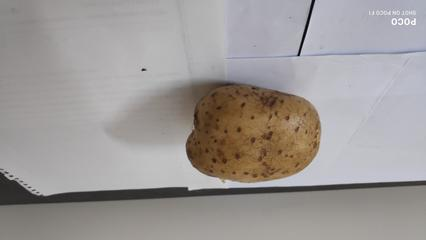potato: (183, 77, 324, 179)
